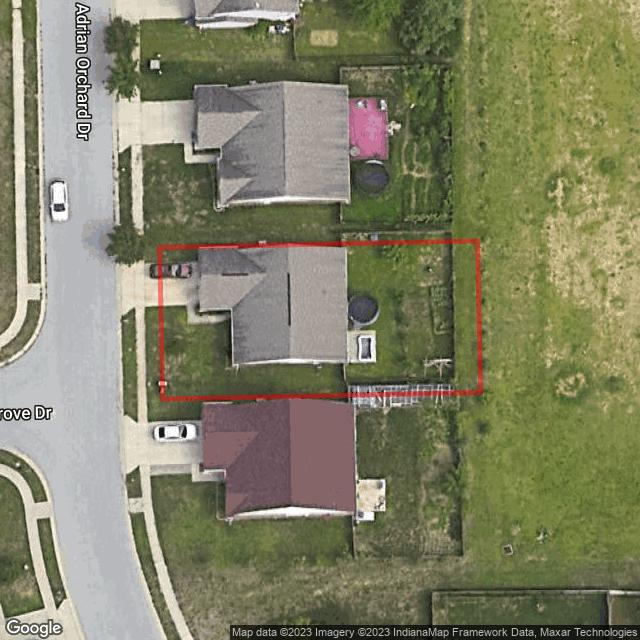Driveway: (163, 263, 229, 324)
Extra Driveway: (119, 262, 135, 317), (145, 262, 159, 308)
Extra Lawn: (121, 307, 137, 401), (146, 308, 161, 401), (145, 246, 157, 262)
Extra Sidewalk: (135, 262, 148, 401)
House: (199, 248, 349, 364)
Other: (349, 294, 379, 326), (349, 331, 375, 362)
